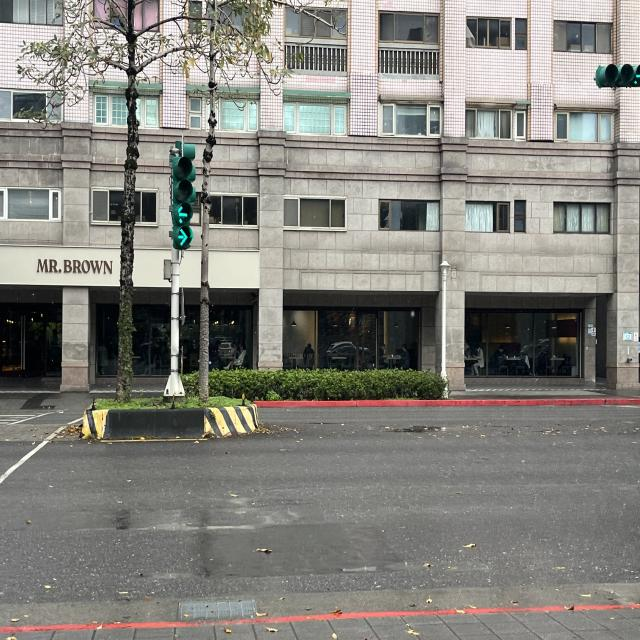green light: (171, 157, 193, 250)
